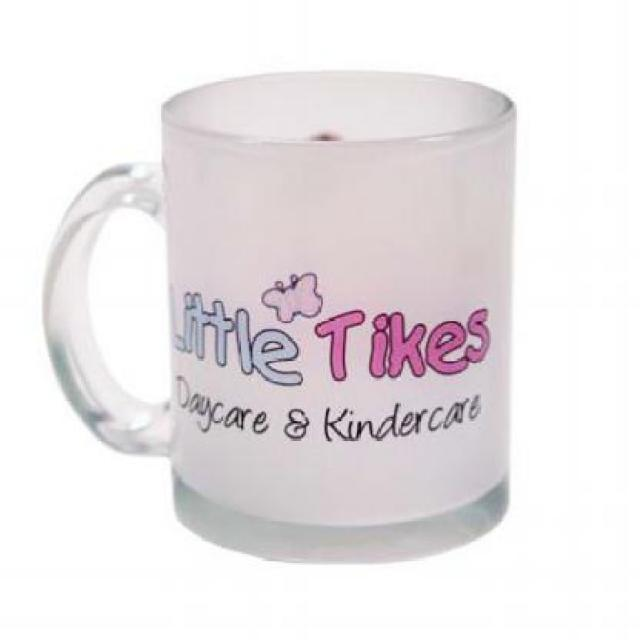taza: (130, 141, 557, 546)
